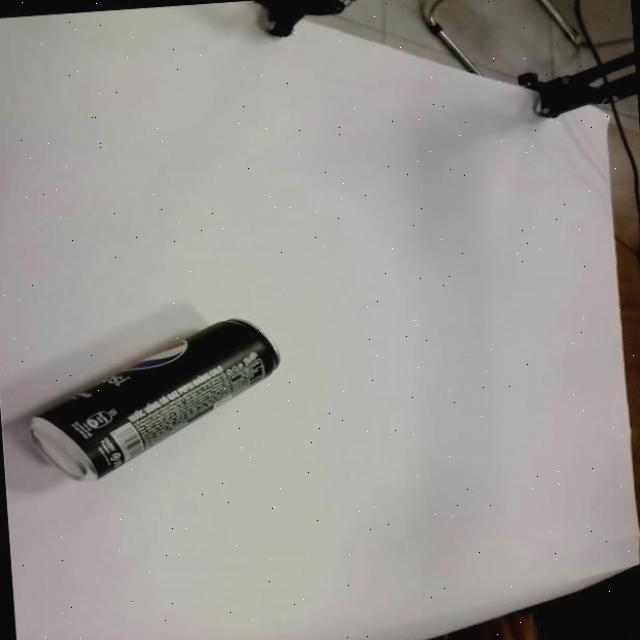debris: (0, 314, 287, 489)
